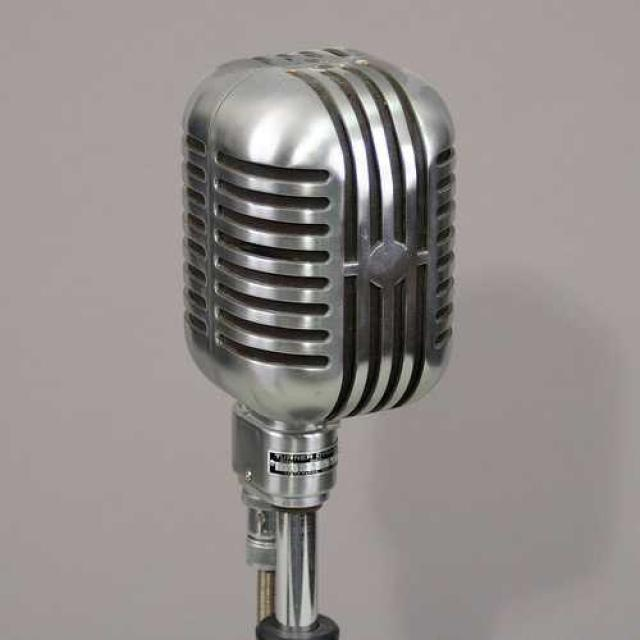microphone: (179, 48, 461, 454)
